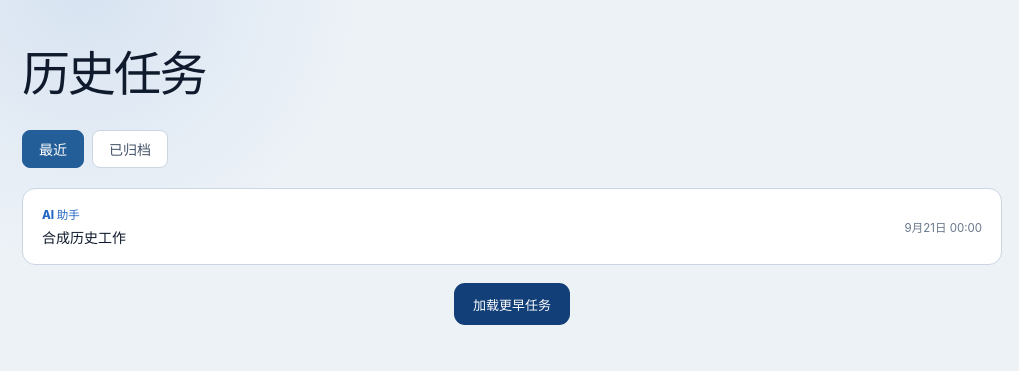
Scenario: keeps loaded rows on pagination failure and retries the same cursor
What coordinates should you click on to do the following:
click the button "加载更早任务"
I would click on:
 (512, 304)
Its box is [454,283,570,325].
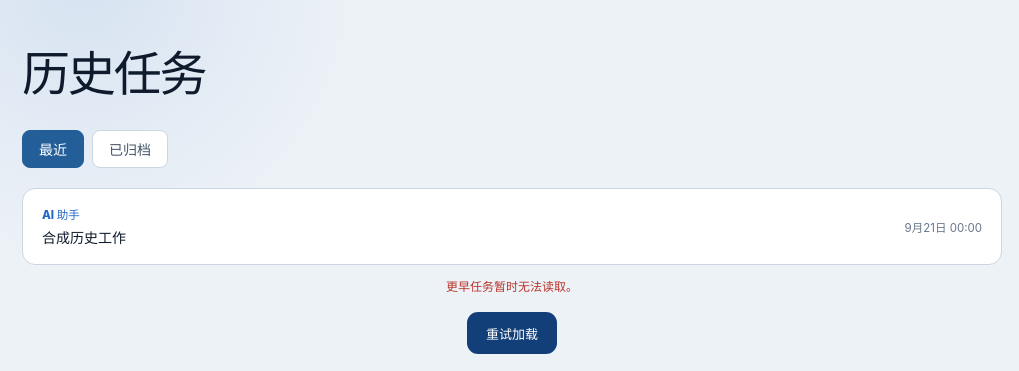
expect the text "合成历史工作" is shown: met, box [42,227,126,247]
expect the message "更早任务暂时无法读取。" is shown: met, box [446,279,578,294]
What coordinates should you click on to do the following:
click the button "重试加载"
I would click on:
 (512, 333)
Its box is [467,312,557,354].
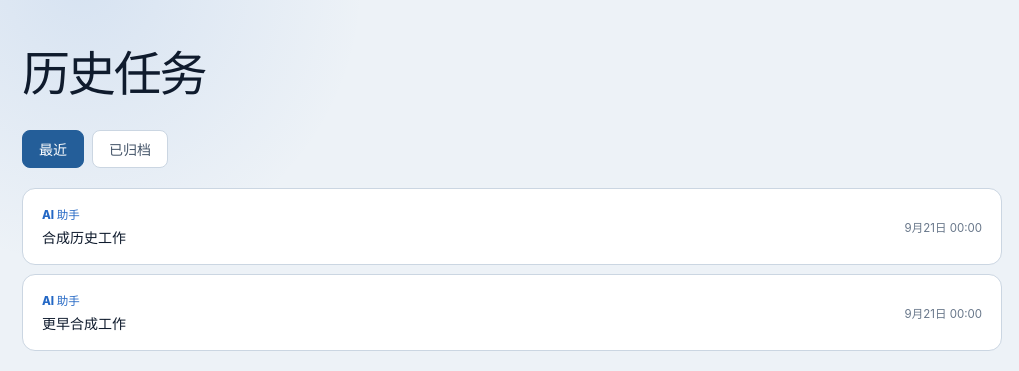
expect the number of links is 2: met, box [22,188,1002,265]; [22,274,1002,351]
expect the message "更早任务暂时无法读取。" is gone: met
